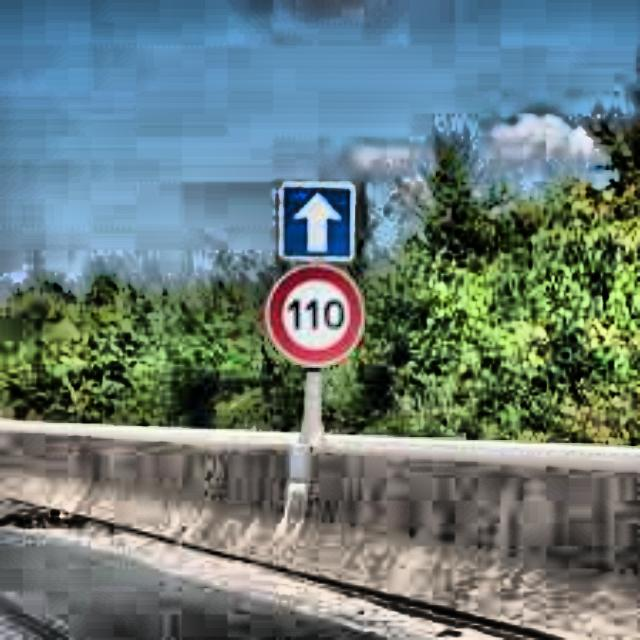speed_110: (270, 266, 366, 366)
